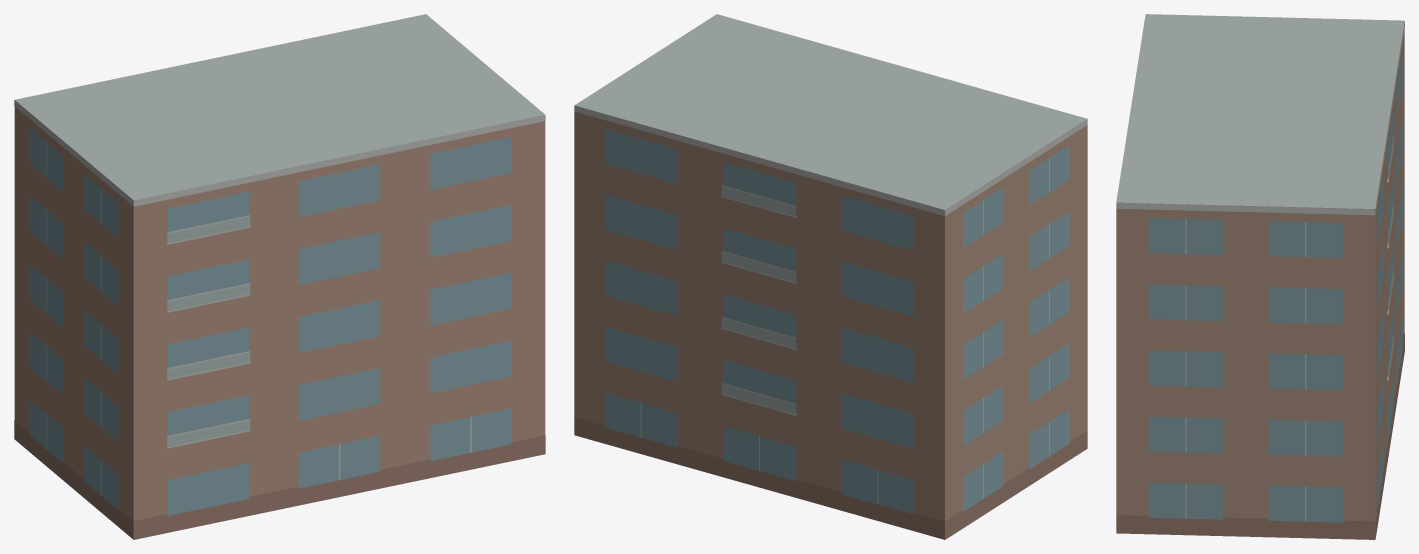
Rendered from survey-upis-32630469.glb.
3 views of the same model, side by side, from view 1: azimuth 30°, elevation 25°; view 2: azimuth 150°, elevation 25°; view 3: azimuth 270°, elevation 25° (orthographic). The views are drawn at different scales.
Parts seen in each view (by area): view 1: survey-upis-32630469.tmp; view 2: survey-upis-32630469.tmp; view 3: survey-upis-32630469.tmp.
Part boxes in pixels (x1,y1,x2,y2): survey-upis-32630469.tmp: (14, 14, 545, 539); survey-upis-32630469.tmp: (574, 14, 1087, 539); survey-upis-32630469.tmp: (1116, 14, 1404, 539).
Size of the model in its own units: 16.65 by 13.15 by 10.41.
